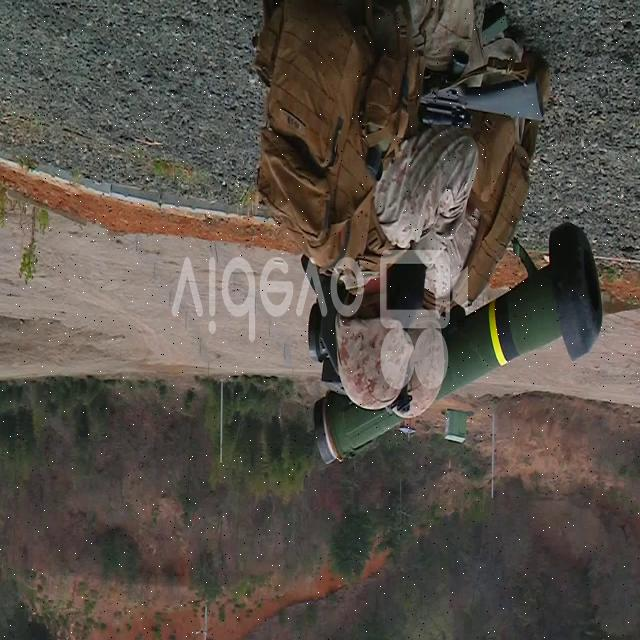bazooka: (306, 217, 608, 473)
